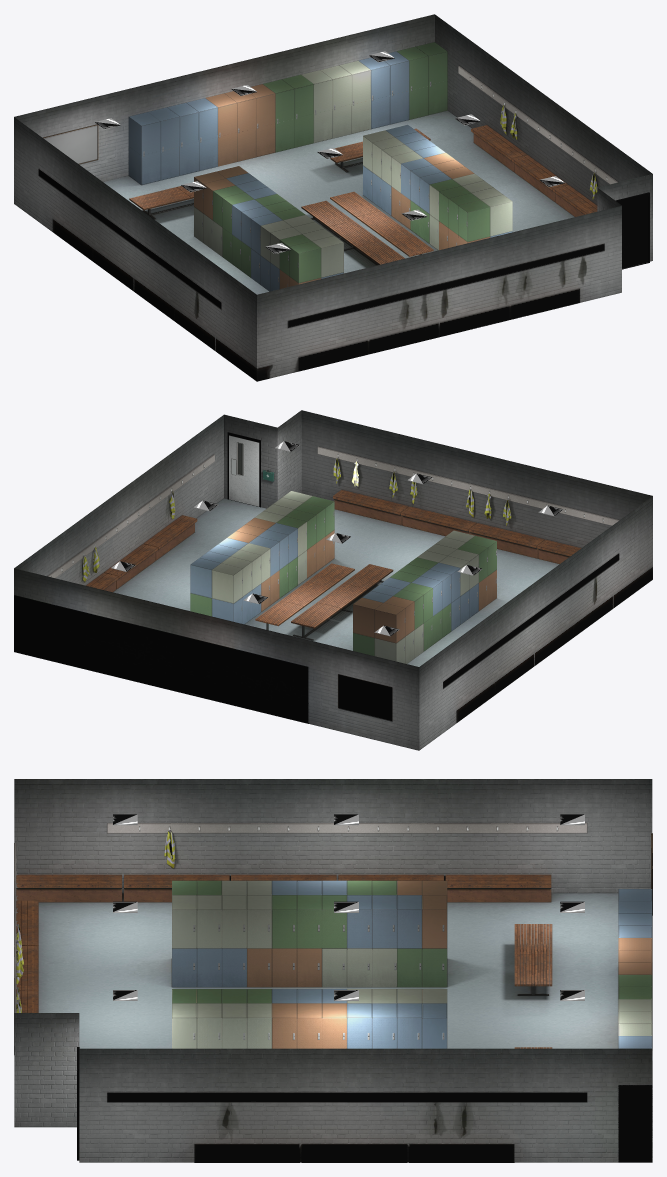
The model's file is room231.fbx.
3 renders of one model, top to bottom at view 1: azimuth 30°, elevation 25°; view 2: azimuth 150°, elevation 25°; view 3: azimuth 270°, elevation 25°, orthographic. The views are drawn at different scales.
Visible parts, largest first — view 1: walls, locker_end, floor, locker_mid_right, locker_mid_left, seating, bench_mid, bench_mid.001, door, lights, board, rail_right (+2 smaller); view 2: walls, floor, locker_mid_right, locker_mid_left, seating, rail_front, bench_mid, door, bench_mid.001, lights, rail_right; view 3: walls, floor, locker_mid_left, locker_mid_right, seating, locker_end, rail_left, lights, bench_end_left, rail_right, rail_front.
Part boxes in pixels (x1,y1,x2,y2): walls: [14, 14, 652, 381]; locker_end: [128, 42, 447, 185]; floor: [103, 110, 574, 294]; locker_mid_right: [363, 125, 512, 250]; locker_mid_left: [194, 166, 343, 291]; seating: [304, 125, 597, 370]; bench_mid: [301, 200, 404, 265]; bench_mid.001: [330, 191, 433, 256]; door: [619, 196, 648, 268]; lights: [95, 51, 564, 253]; board: [43, 124, 98, 164]; rail_right: [458, 66, 617, 184]; walls: [14, 410, 652, 750]; floor: [113, 498, 559, 666]; locker_mid_right: [190, 491, 334, 624]; locker_mid_left: [353, 530, 496, 663]; seating: [86, 489, 581, 592]; rail_front: [317, 446, 619, 525]; bench_mid: [291, 564, 393, 640]; door: [229, 435, 259, 506]; bench_mid.001: [255, 563, 354, 630]; lights: [111, 441, 563, 636]; rail_right: [48, 454, 214, 578]; walls: [14, 779, 652, 1162]; floor: [38, 893, 618, 1048]; locker_mid_left: [172, 880, 447, 987]; locker_mid_right: [172, 989, 447, 1048]; seating: [16, 874, 551, 1162]; locker_end: [618, 889, 652, 1162]; rail_left: [107, 823, 587, 833]; lights: [113, 814, 584, 1000]; bench_end_left: [514, 924, 552, 995]; rail_right: [107, 1092, 586, 1102]; rail_front: [14, 843, 17, 1054].
Bounding box in the file's own units: 1402 × 282 × 1402.
29 materials, 7 textured.
